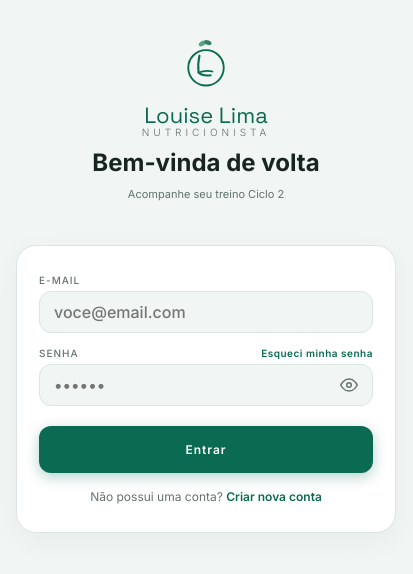
it: LoginPage — login com e-mail/senha › login inválido mostra erro amigável
Type "aluna@email.com" into the field labelled "E-mail" at (206, 312), box x1=39 y1=291 x2=373 y2=333
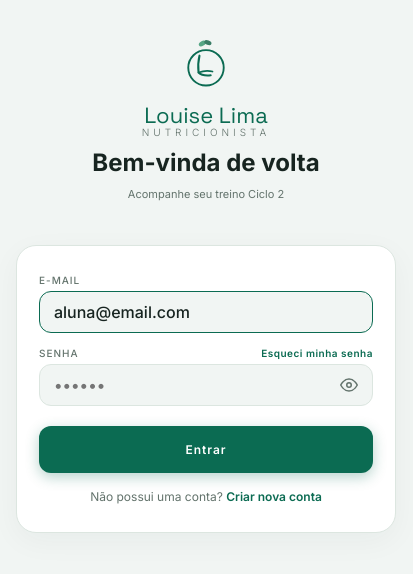
Type "errada" into the password field labelled "Senha" at (206, 385), box x1=39 y1=364 x2=373 y2=406
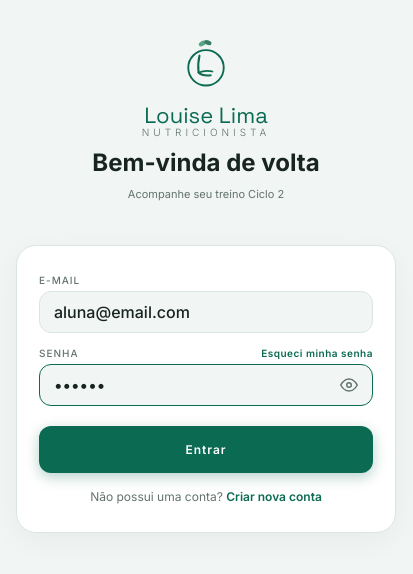
Click the button "Entrar" at (206, 450), box x1=39 y1=426 x2=373 y2=473
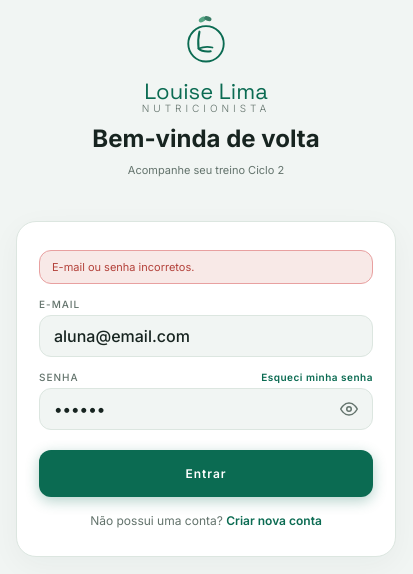
Check: the message reads "E-mail ou senha incorretos.", box x1=52 y1=260 x2=194 y2=274
